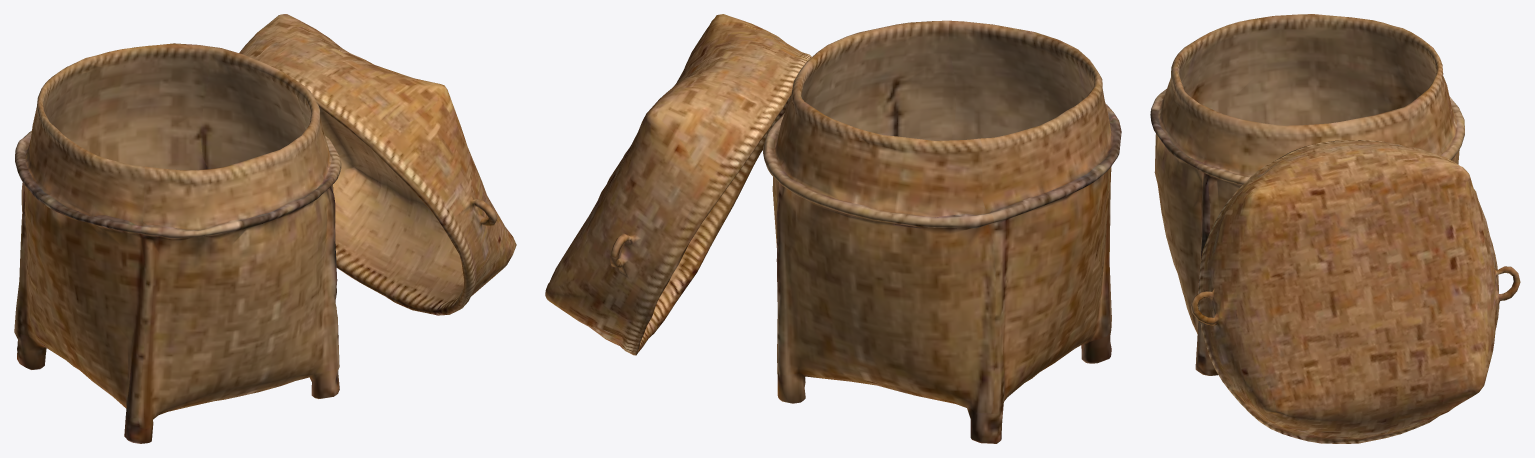
Rendered from wicker_basket_02.df86e544.glb.
3 views of the same model, side by side, from view 1: azimuth 30°, elevation 25°; view 2: azimuth 150°, elevation 25°; view 3: azimuth 270°, elevation 25° (orthographic). The views are drawn at different scales.
Visible parts, largest first — view 1: wicker_basket_02_base, wicker_basket_02_lid; view 2: wicker_basket_02_base, wicker_basket_02_lid; view 3: wicker_basket_02_lid, wicker_basket_02_base.
Boxes of the visible parts, box(x1,y1,x2,y2) form: wicker_basket_02_base: box(14, 43, 341, 443); wicker_basket_02_lid: box(239, 14, 516, 315); wicker_basket_02_base: box(763, 20, 1121, 443); wicker_basket_02_lid: box(545, 14, 811, 355); wicker_basket_02_lid: box(1190, 140, 1520, 443); wicker_basket_02_base: box(1150, 14, 1464, 375).
Size of the model in its own units: 0.95 by 0.5489 by 0.6968.
Materials: 1 (1 with a texture image).
